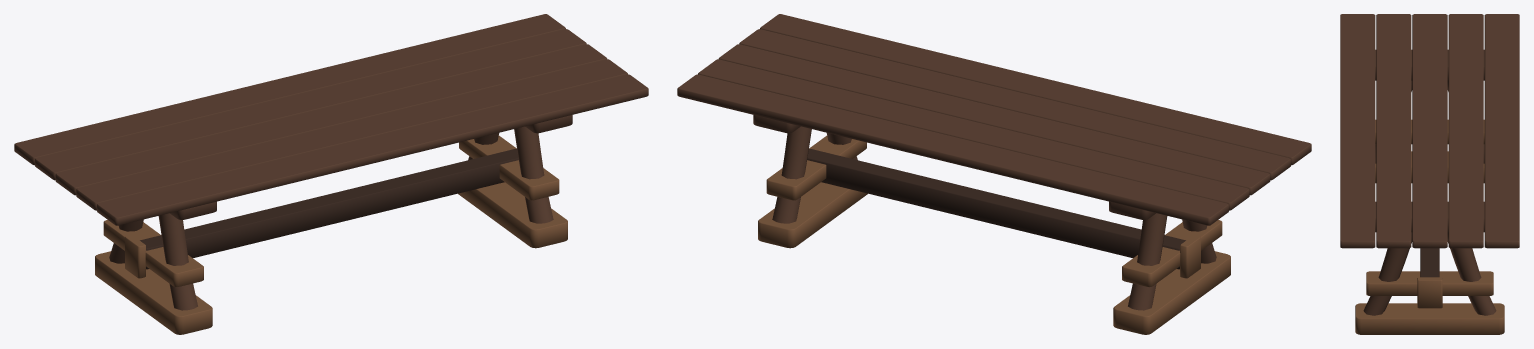
File: rpg-mansion-trestle-banquet-table-01.glb
3 renders of one model, left to right at view 1: azimuth 30°, elevation 25°; view 2: azimuth 150°, elevation 25°; view 3: azimuth 270°, elevation 25°, orthographic. The views are drawn at different scales.
Parts seen in each view (by area): view 1: rpg-mansion-trestle-banquet-table-01; view 2: rpg-mansion-trestle-banquet-table-01; view 3: rpg-mansion-trestle-banquet-table-01.
Boxes of the visible parts, left/top/right/bottom form: rpg-mansion-trestle-banquet-table-01: left=14, top=14, right=648, bottom=334; rpg-mansion-trestle-banquet-table-01: left=677, top=14, right=1311, bottom=334; rpg-mansion-trestle-banquet-table-01: left=1340, top=14, right=1519, bottom=334.
Size of the model in its own units: 3 by 0.76 by 1.
